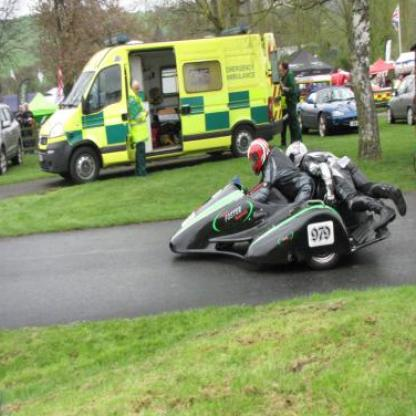truck: (40, 26, 283, 182)
